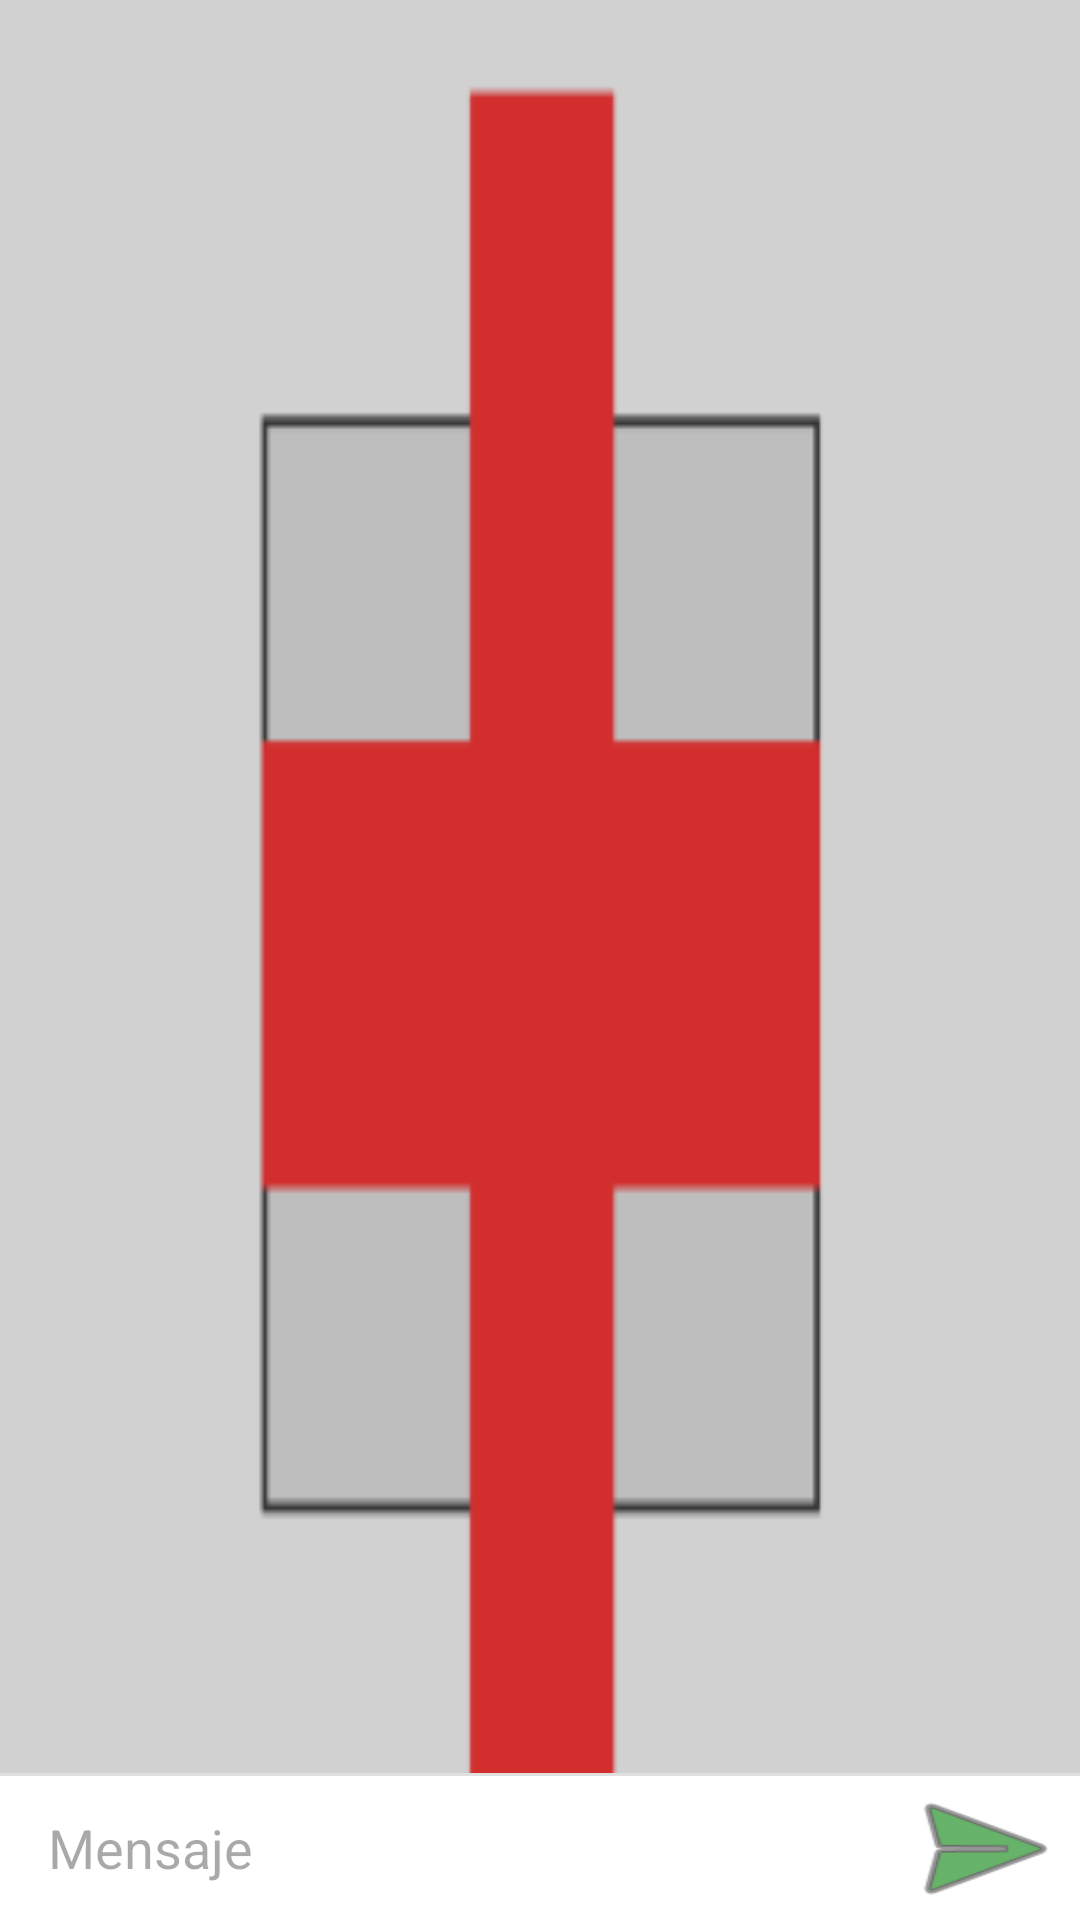

Point at icon controls on the screen. Image size 1080*1920, points as (x=x, y=y).
send: (x=985, y=1848)
